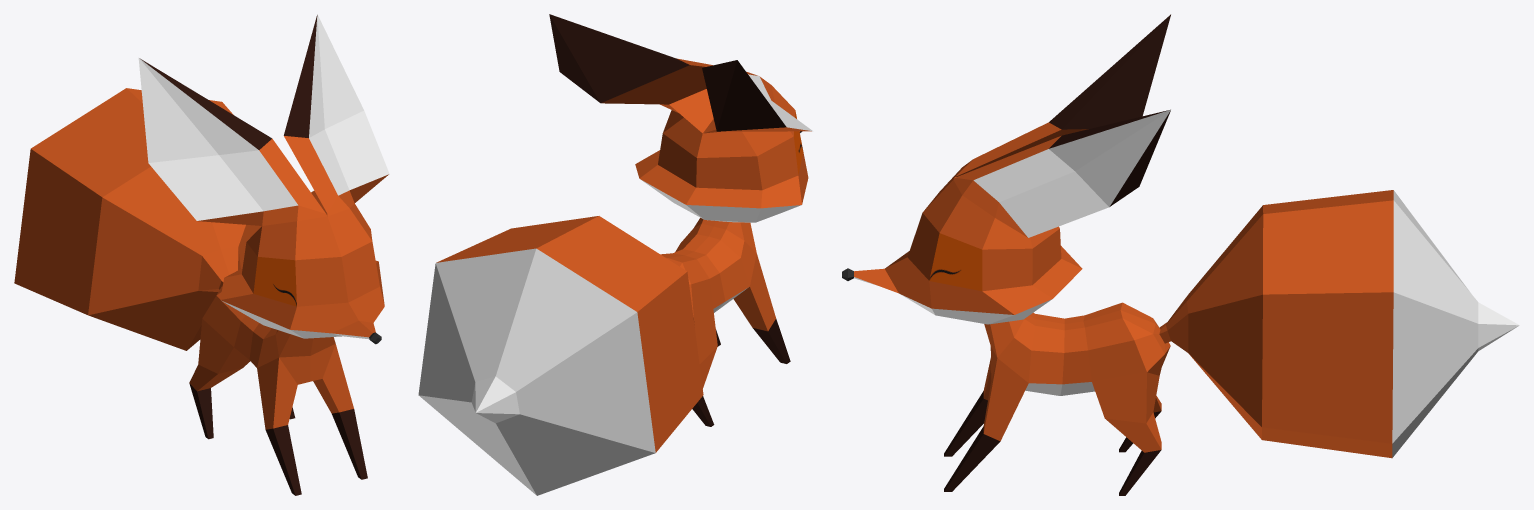
Rendered from Fox.fbx.
3 views of the same model, side by side, from view 1: azimuth 30°, elevation 25°; view 2: azimuth 150°, elevation 25°; view 3: azimuth 270°, elevation 25° (orthographic). The views are drawn at different scales.
Parts seen in each view (by area): view 1: Cylinder; view 2: Cylinder; view 3: Cylinder.
Part boxes in pixels (box(x1,y1,x2,y2)): Cylinder: box(14, 14, 389, 495); Cylinder: box(418, 14, 812, 495); Cylinder: box(842, 14, 1519, 495).
Bounding box in the file's own units: 55.67 × 88.58 × 132.
